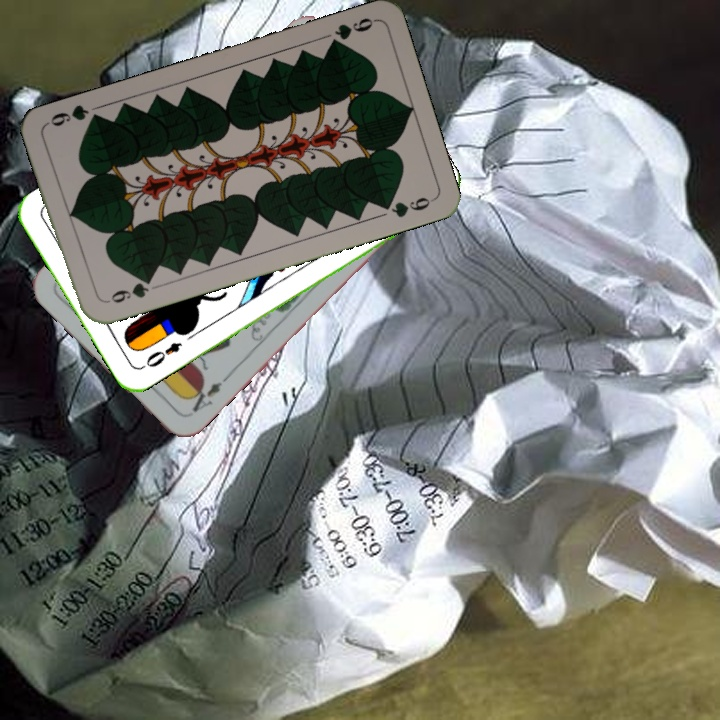EA: (183, 372, 231, 415)
EO: (137, 338, 185, 372)
G9: (324, 13, 378, 51), (100, 273, 155, 306)
